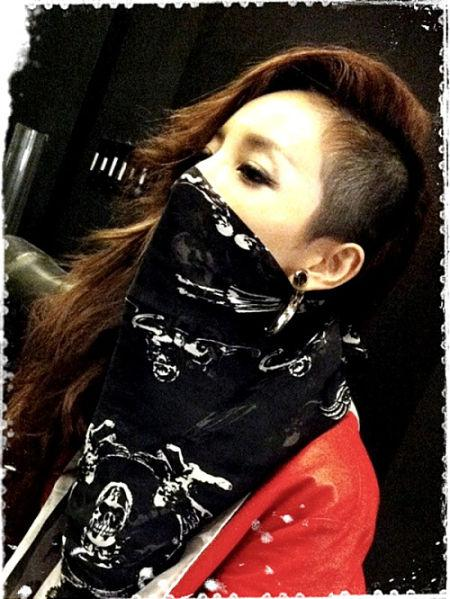OK: (160, 114, 318, 326)
